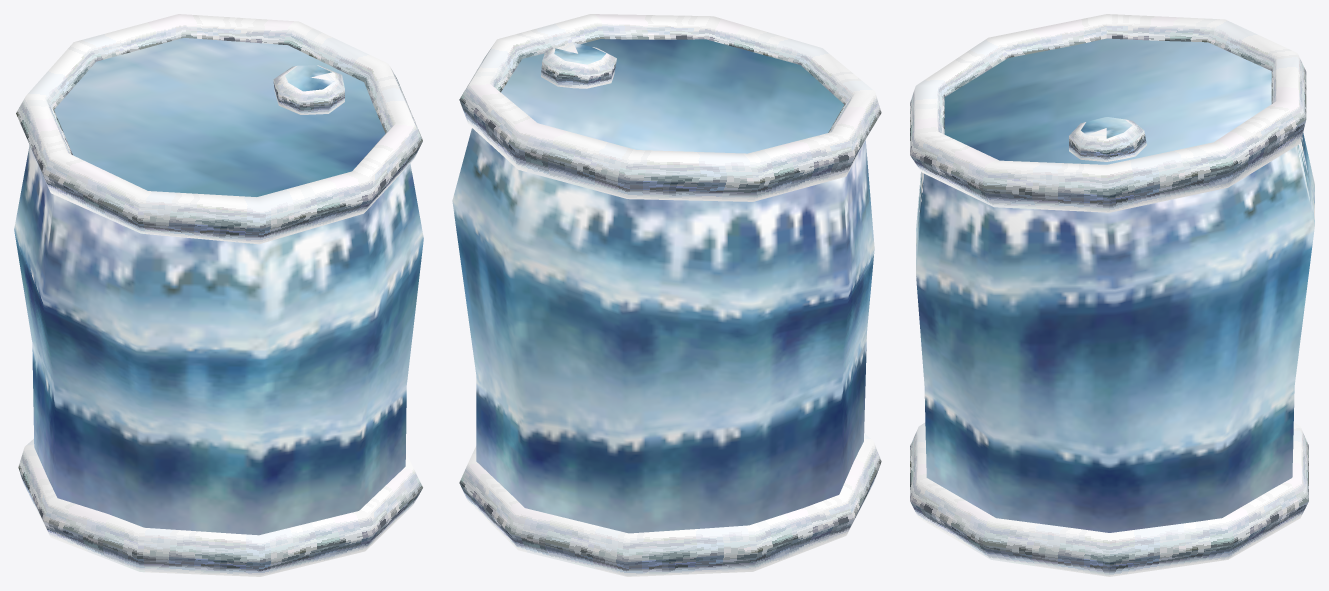
The model's file is a_drum_1.glb.
3 views of the same model, side by side, from view 1: azimuth 30°, elevation 25°; view 2: azimuth 150°, elevation 25°; view 3: azimuth 270°, elevation 25° (orthographic). The views are drawn at different scales.
Parts seen in each view (by area): view 1: a_drum_1; view 2: a_drum_1; view 3: a_drum_1.
Part boxes in pixels (x1,y1,x2,y2): a_drum_1: [14, 14, 423, 576]; a_drum_1: [452, 14, 881, 576]; a_drum_1: [910, 14, 1314, 576].
Size of the model in its own units: 146 by 158 by 140.
Materials: 2 (2 with a texture image).
